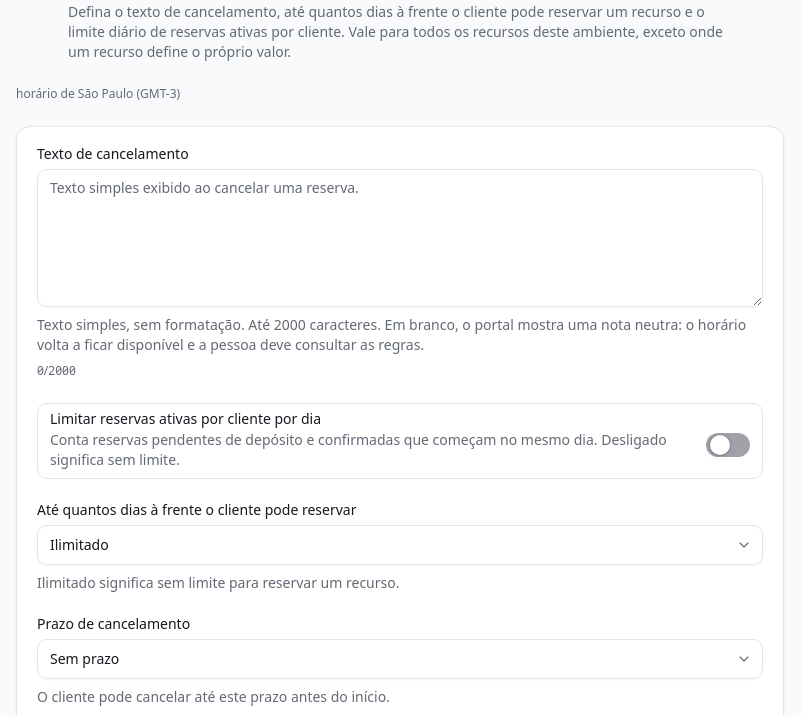
Test case: BookingPolicyPage › disables save until the daily limit is inside 1..100
Check: the text box labelled "Texto de cancelamento" is shown, box [37,169,763,307]
Click the switch named "Limitar reservas ativas por cliente por dia" at (728, 445), box [706,433,750,457]
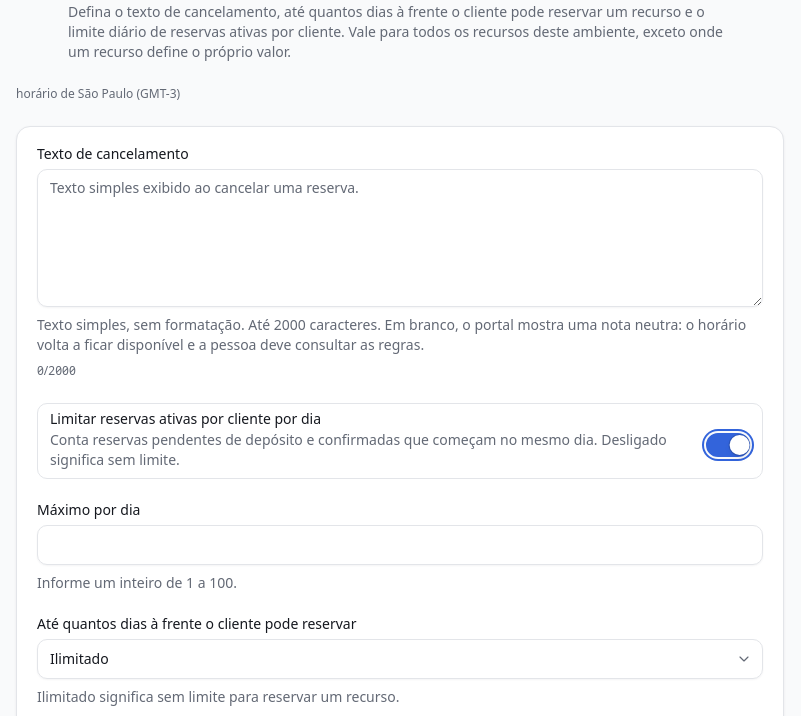
Type "101" into the field labelled "Máximo por dia" at (400, 545), box [37,525,763,565]
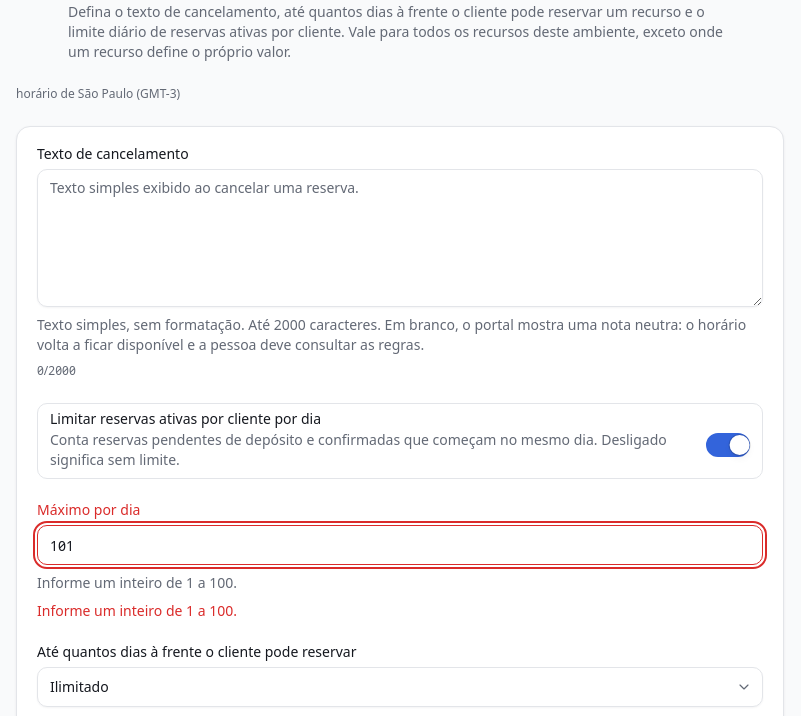
Replace the text in the field labelled "Máximo por dia" with "1" at (400, 545), box [37,525,763,565]
(page scrolled)
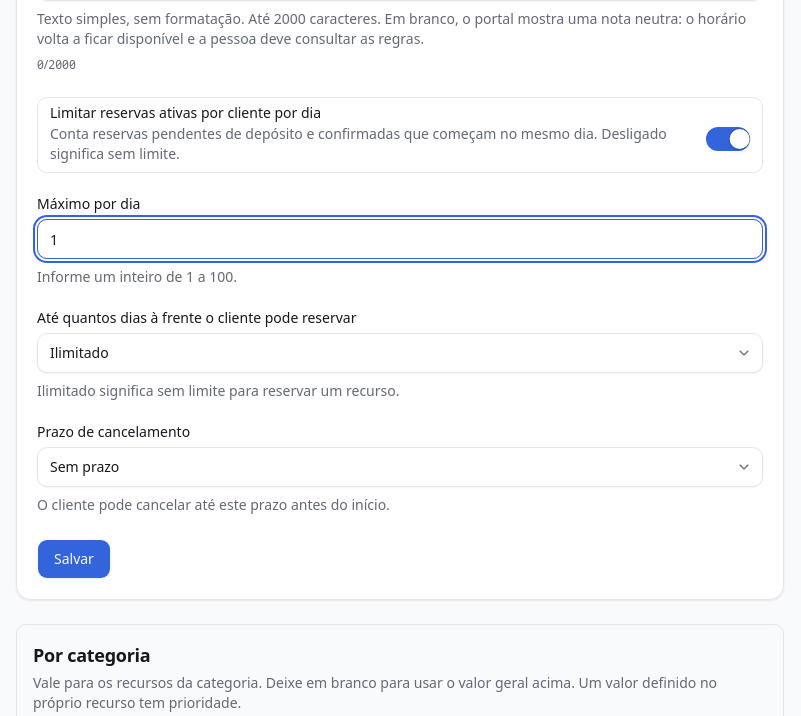
Check: the button "Salvar" is enabled, box [37,539,111,579]
